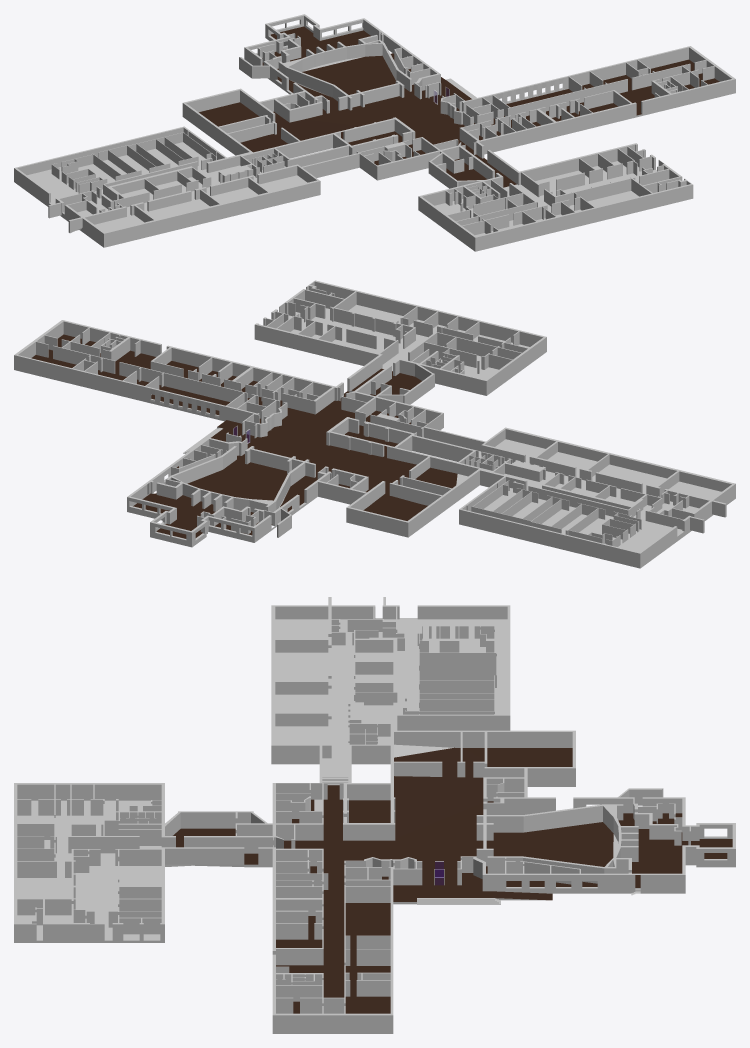
Rendered from prvo.dae.
The picture shows the model from 3 angles, top to bottom: view 1: azimuth 30°, elevation 25°; view 2: azimuth 150°, elevation 25°; view 3: azimuth 270°, elevation 25°; orthographic projection. The views are drawn at different scales.
Parts seen in each view (by area): view 1: Cube; view 2: Cube; view 3: Cube.
Boxes of the visible parts, box(x1,y1,x2,y2) form: Cube: box(14, 14, 735, 251); Cube: box(14, 280, 735, 568); Cube: box(14, 597, 735, 1033).
Bounding box in the file's own units: 150 × 109 × 3.1.
